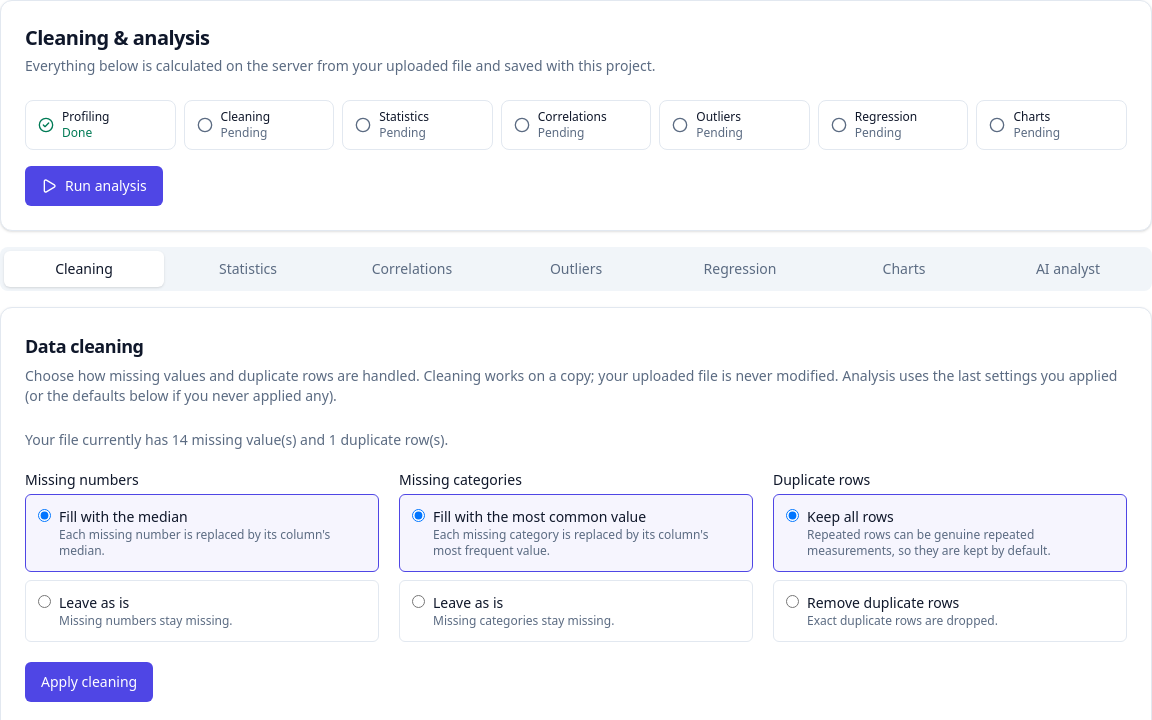
Test case: AnalysisWorkspace — before any run › treats a 404 as 'not run yet': shows real stages, an empty cleaning report and empty result tabs
Check: the button "Run analysis" is shown, box top-left (25, 166), bottom-right (163, 206)
Click the tab "Statistics" at (248, 269), box top-left (168, 251), bottom-right (328, 287)
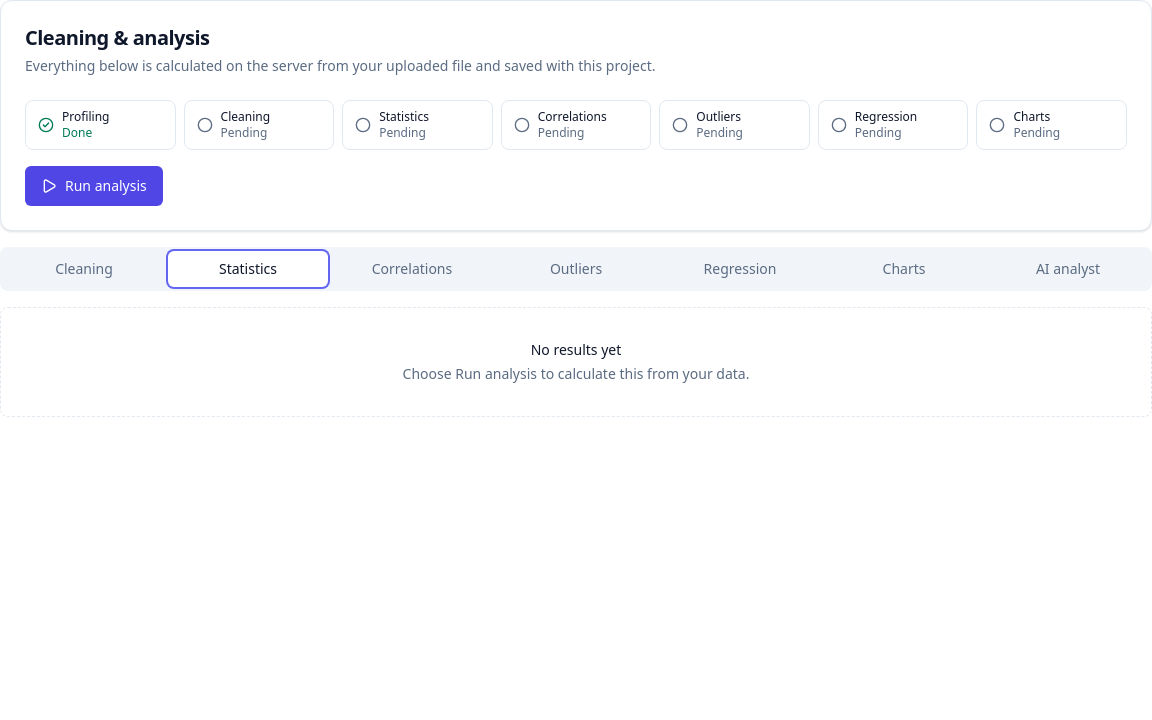
Check: the text "No results yet" is shown, box top-left (531, 340), bottom-right (621, 360)
